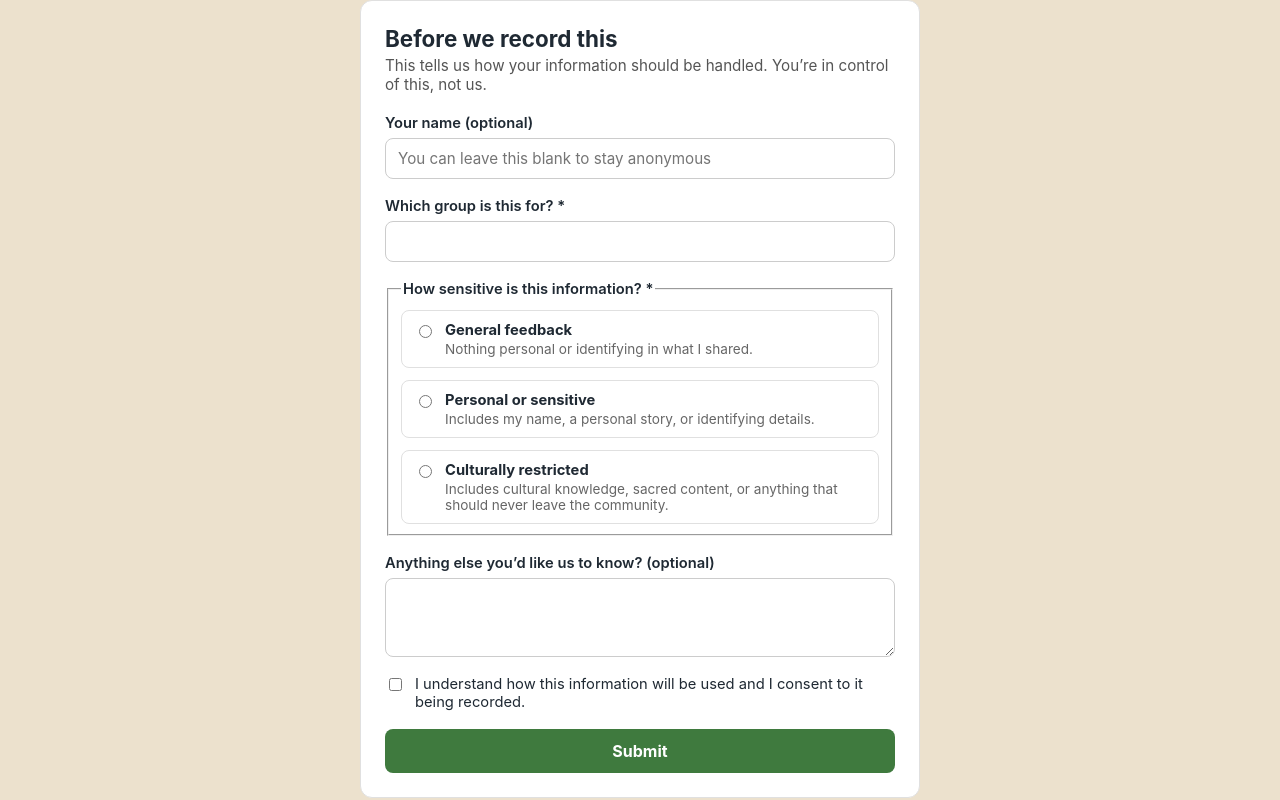
Test: ConsentCapturePage integration (Sub Task 22.3 + 22.4) › shows the network error message when the request fails to reach the server
Type "Youth Group A" into the field labelled "Which group is this for? *" at (640, 242), box [385, 221, 895, 262]
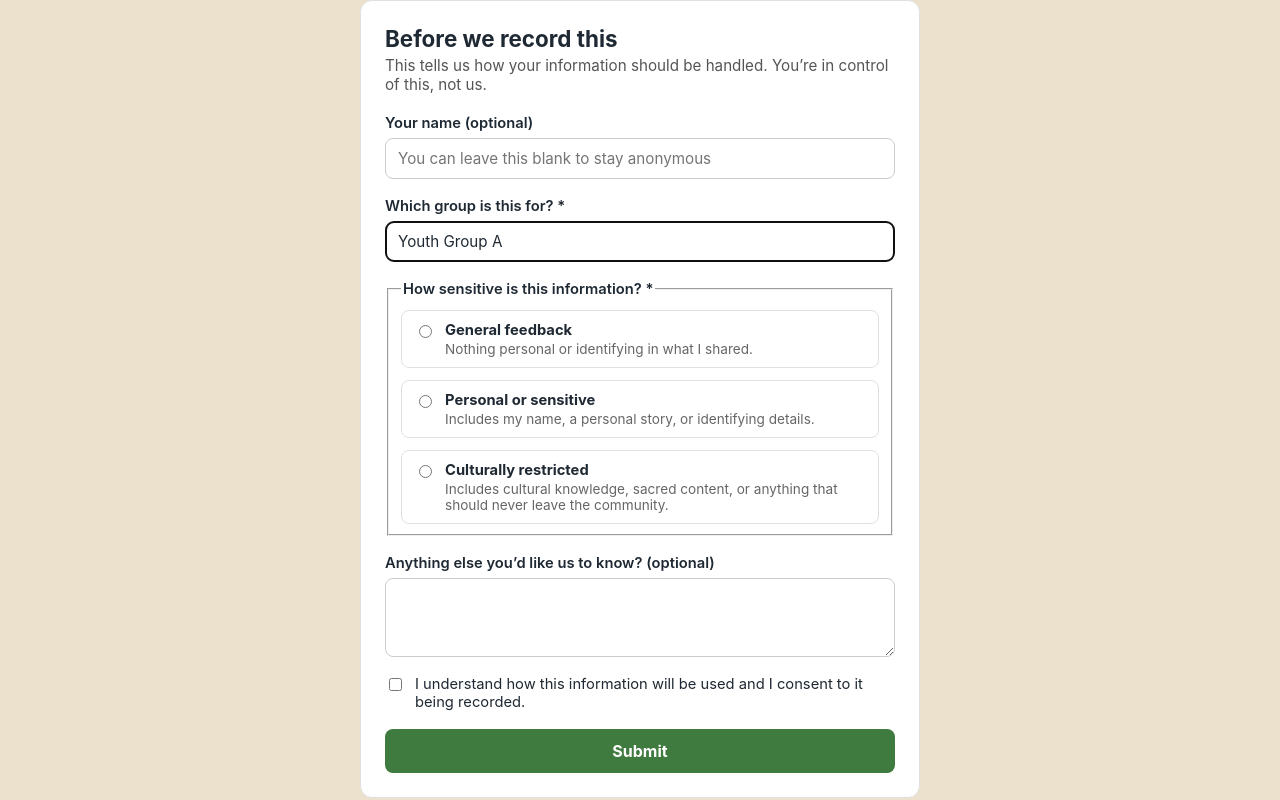
Click the radio button labelled "General feedback" at (426, 331), box [419, 325, 432, 338]
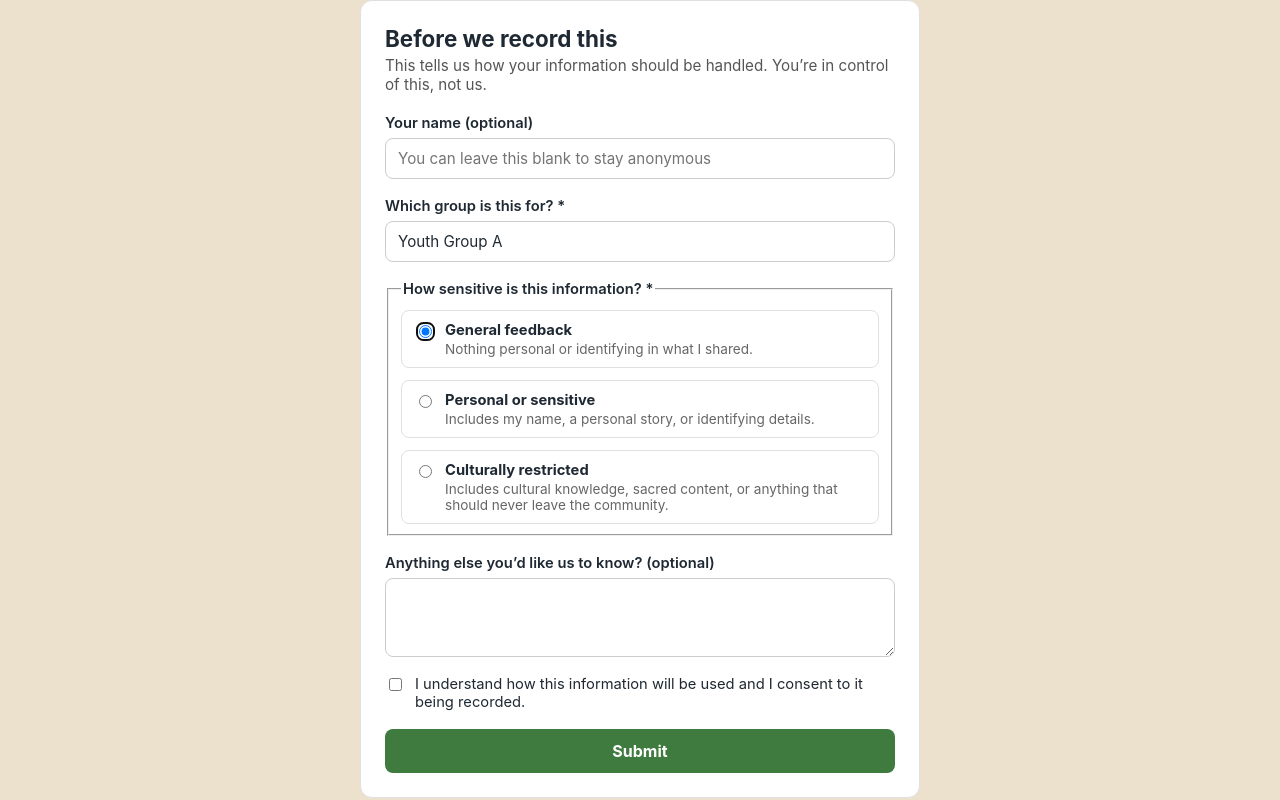
Click the checkbox labelled "I understand how this information" at (396, 684), box [389, 678, 402, 691]
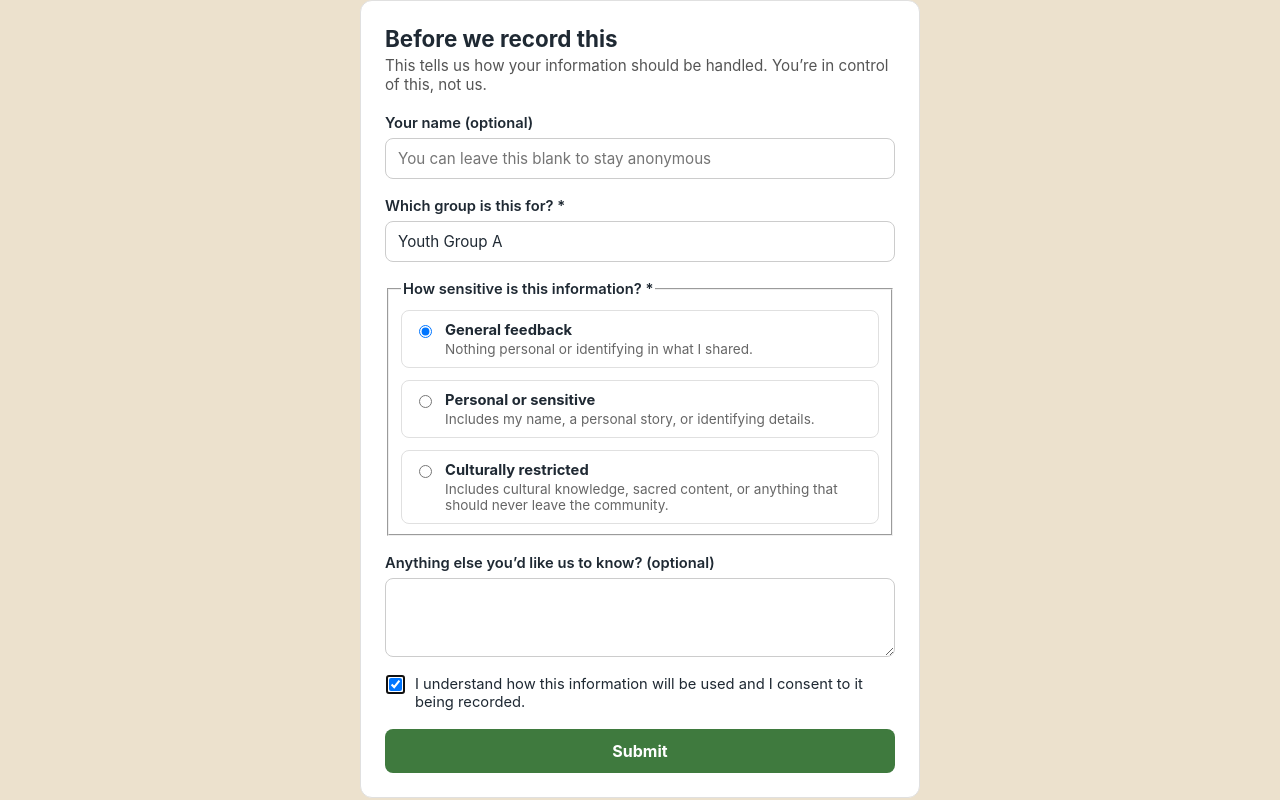
Click the button "Submit" at (640, 751), box [385, 729, 895, 773]
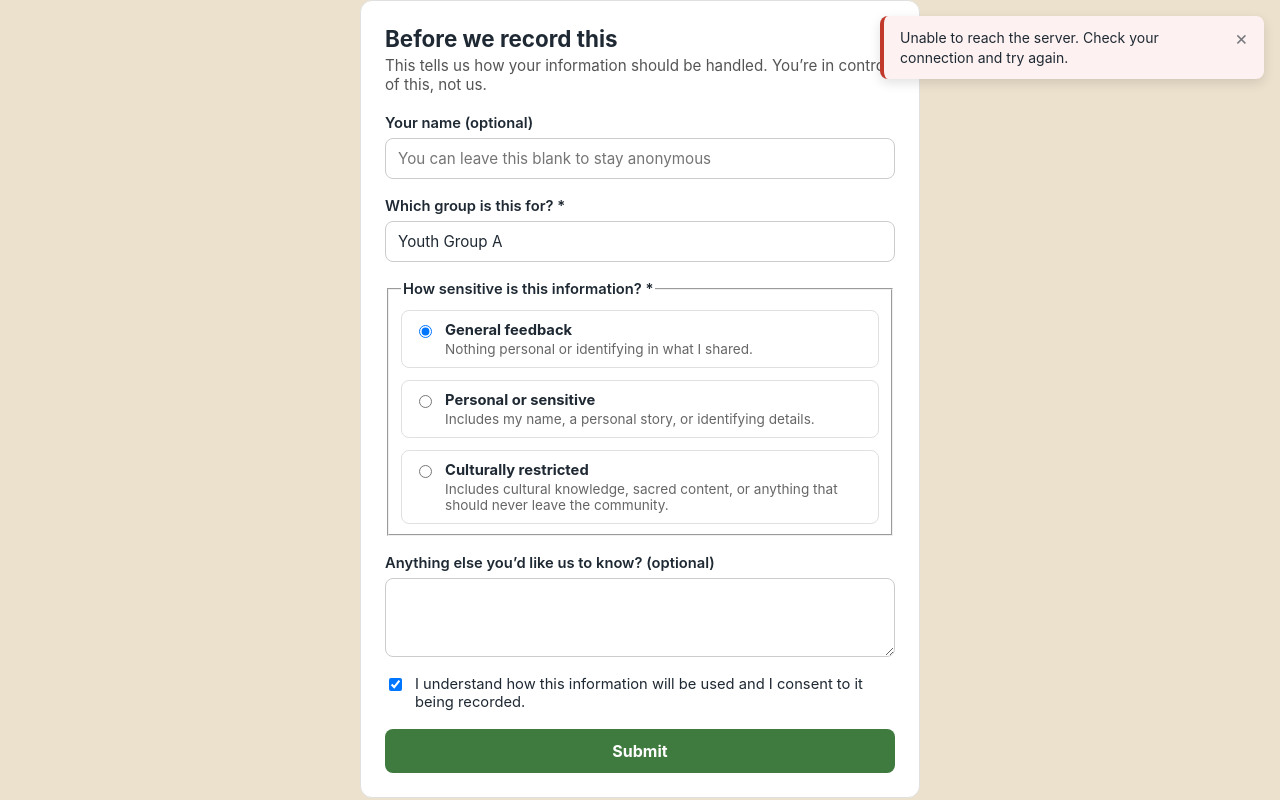
Check: the text "Unable to reach the server" is shown, box [900, 29, 1159, 66]
